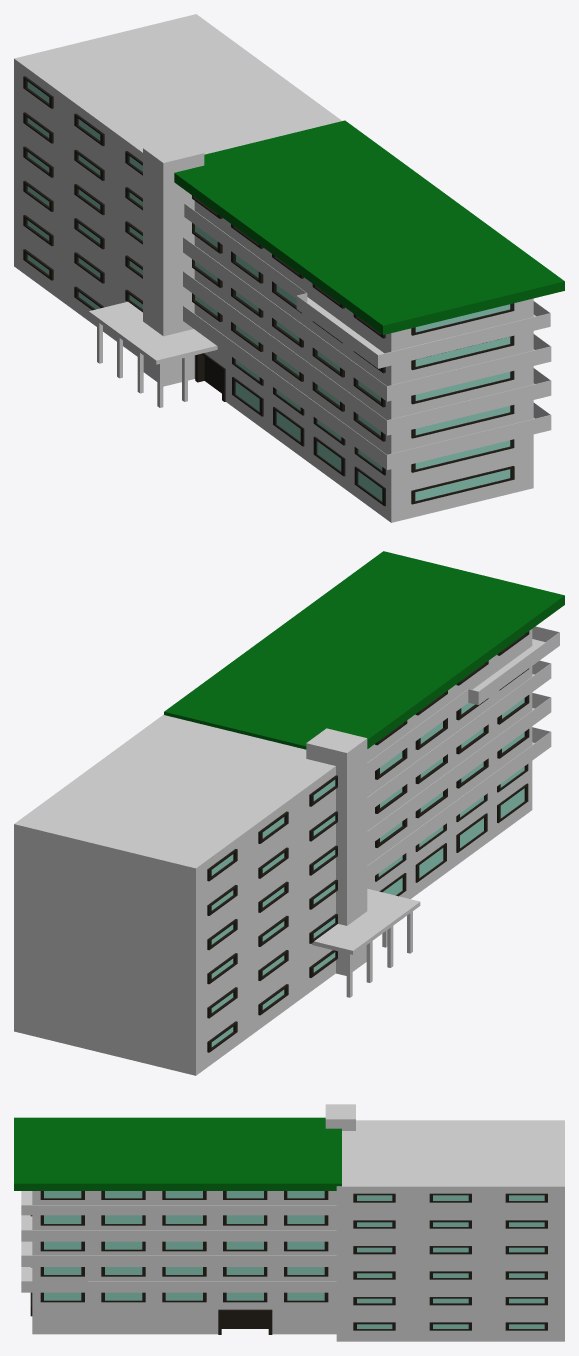
Rendered from Velasco Hall.fbx.
3 renders of one model, top to bottom at view 1: azimuth 30°, elevation 25°; view 2: azimuth 150°, elevation 25°; view 3: azimuth 270°, elevation 25°, orthographic. The views are drawn at different scales.
Visible parts, largest first — view 1: Velasco Hall; view 2: Velasco Hall; view 3: Velasco Hall.
Part boxes in pixels (x1,y1,x2,y2): Velasco Hall: (14, 14, 564, 522); Velasco Hall: (14, 551, 564, 1075); Velasco Hall: (14, 1104, 564, 1341).
Bounding box in the file's own units: 70.51 × 66.78 × 200.
